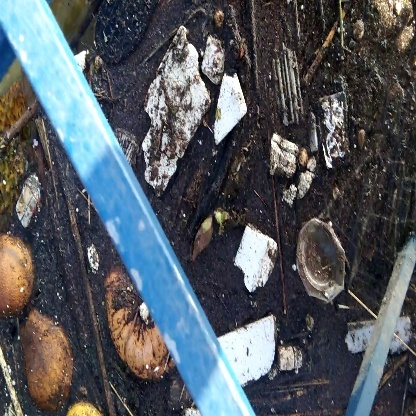plastic-garbage: (140, 27, 214, 195)
